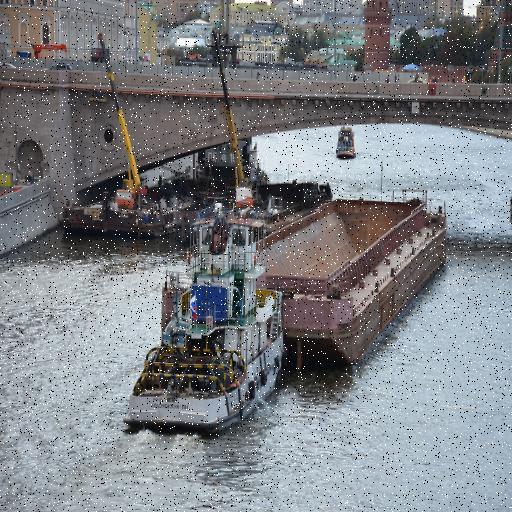tugboat: (120, 194, 291, 448)
